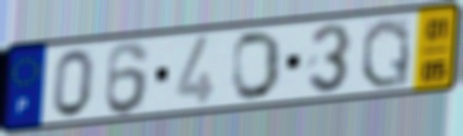0: (49, 45, 97, 120)
3: (300, 20, 357, 97)
4: (173, 32, 220, 109)
6: (103, 39, 150, 118)
O: (230, 28, 284, 103)
Q: (359, 16, 413, 91)
